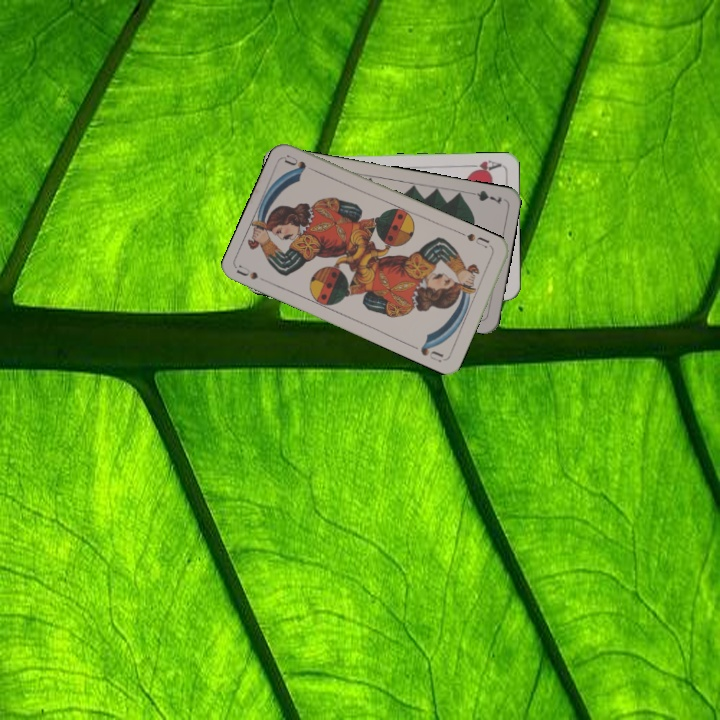G7: (464, 186, 504, 206)
HA: (462, 156, 503, 175)
SU: (234, 261, 273, 287), (463, 229, 495, 251)
